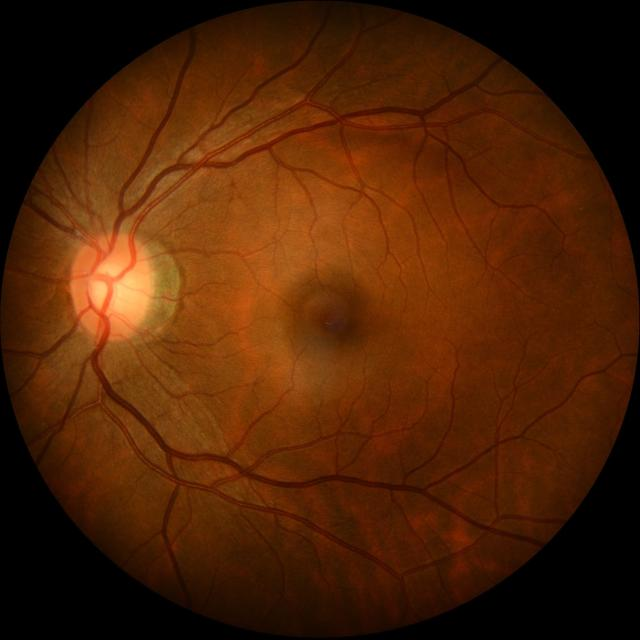OC: (87, 260, 141, 318)
OD: (68, 232, 154, 339)
